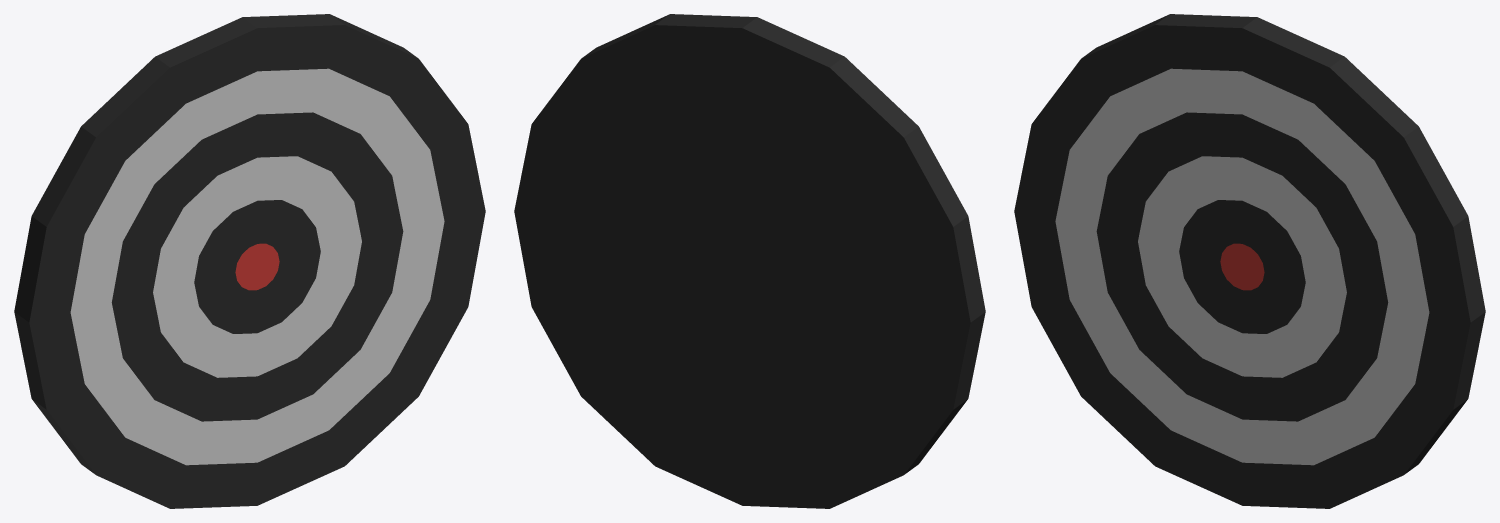
The model's file is ShootingTarget_02.fbx.
The picture shows the model from 3 angles, left to right: view 1: azimuth 30°, elevation 25°; view 2: azimuth 150°, elevation 25°; view 3: azimuth 330°, elevation 25°; orthographic projection.
Visible parts, largest first — view 1: ShootingTarget_02; view 2: ShootingTarget_02; view 3: ShootingTarget_02.
Boxes of the visible parts, x1=… form: ShootingTarget_02: x1=14, y1=14, x2=485, y2=508; ShootingTarget_02: x1=514, y1=14, x2=985, y2=508; ShootingTarget_02: x1=1014, y1=14, x2=1485, y2=508.
Size of the model in its own units: 51.94 by 51.94 by 2.97.
